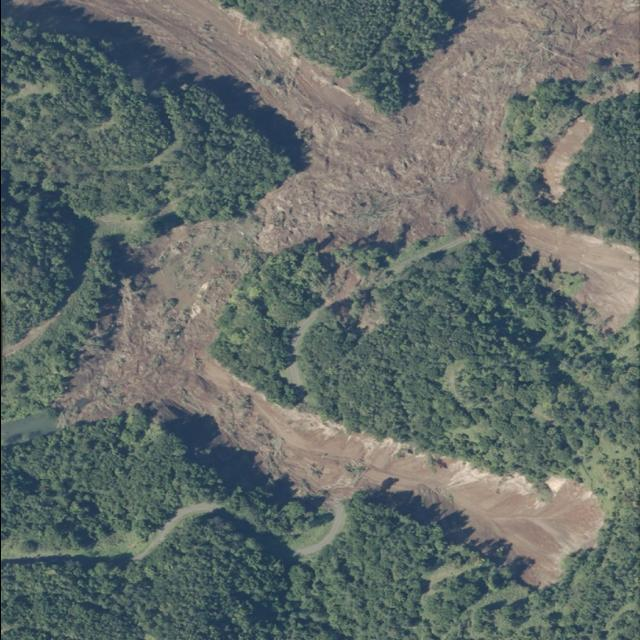landslide: (55, 218, 603, 589), (58, 0, 639, 332)
